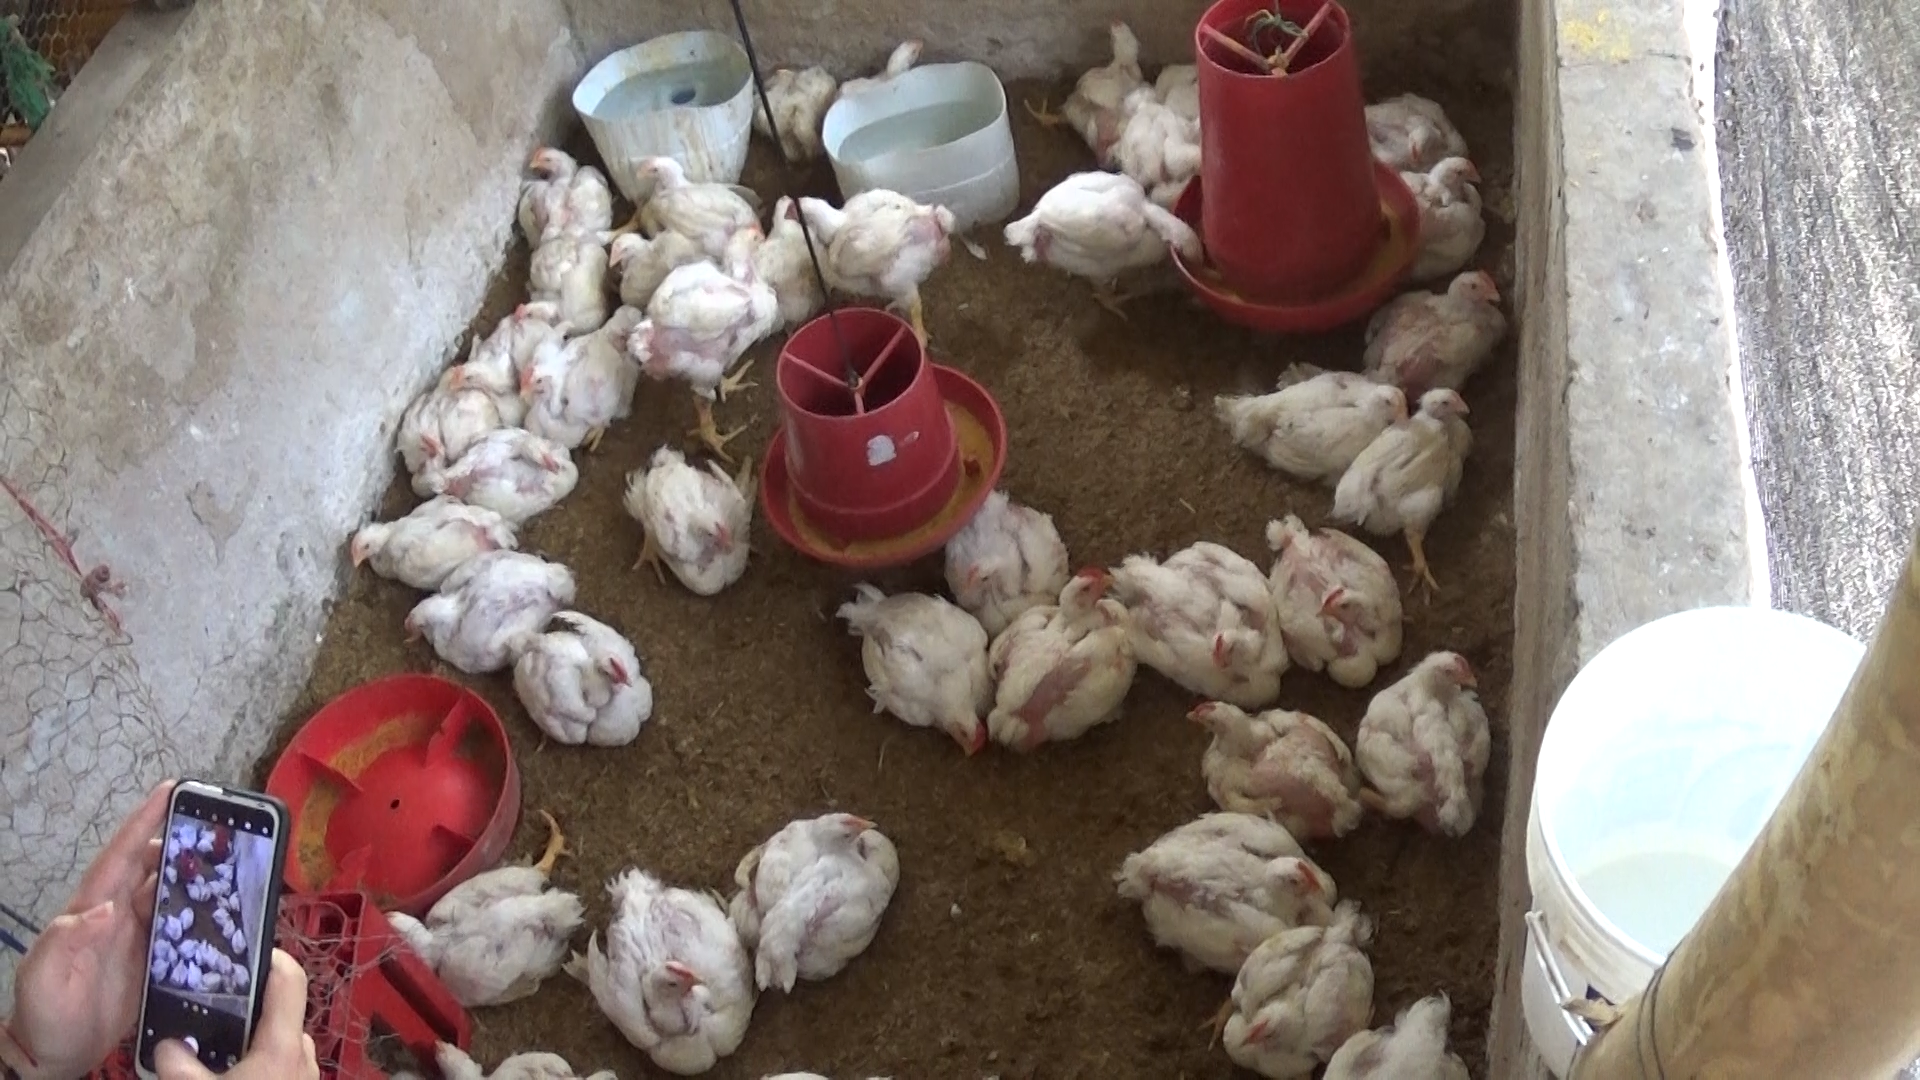Pollos: (1101, 803, 1338, 959), (576, 876, 757, 1068), (725, 803, 906, 984), (1105, 524, 1280, 698), (825, 576, 988, 757), (992, 160, 1205, 295), (1205, 909, 1379, 1072), (978, 556, 1120, 752), (779, 182, 963, 328), (392, 545, 578, 684), (1352, 642, 1495, 823), (1259, 512, 1404, 684), (401, 851, 576, 988), (1171, 688, 1357, 818), (629, 262, 820, 386), (1366, 78, 1502, 251), (508, 607, 662, 757), (1332, 384, 1486, 533), (1205, 359, 1404, 468), (621, 444, 760, 593), (1354, 262, 1520, 368), (931, 487, 1065, 612), (345, 495, 512, 592), (1040, 15, 1145, 152), (417, 433, 589, 513), (512, 328, 642, 433), (628, 152, 752, 247), (508, 132, 603, 241), (513, 227, 604, 338), (390, 382, 489, 473), (442, 353, 539, 430), (609, 223, 698, 305), (847, 32, 926, 88)
